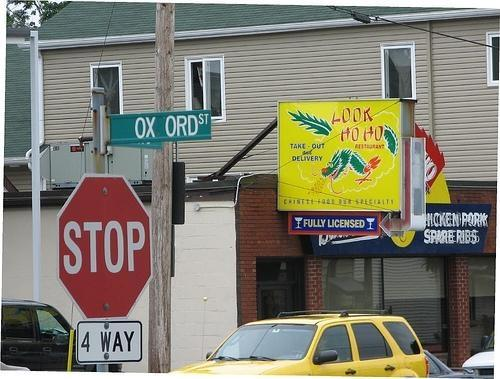car: (170, 310, 428, 375), (1, 298, 96, 372), (423, 350, 476, 378)
truck: (160, 310, 429, 378)
